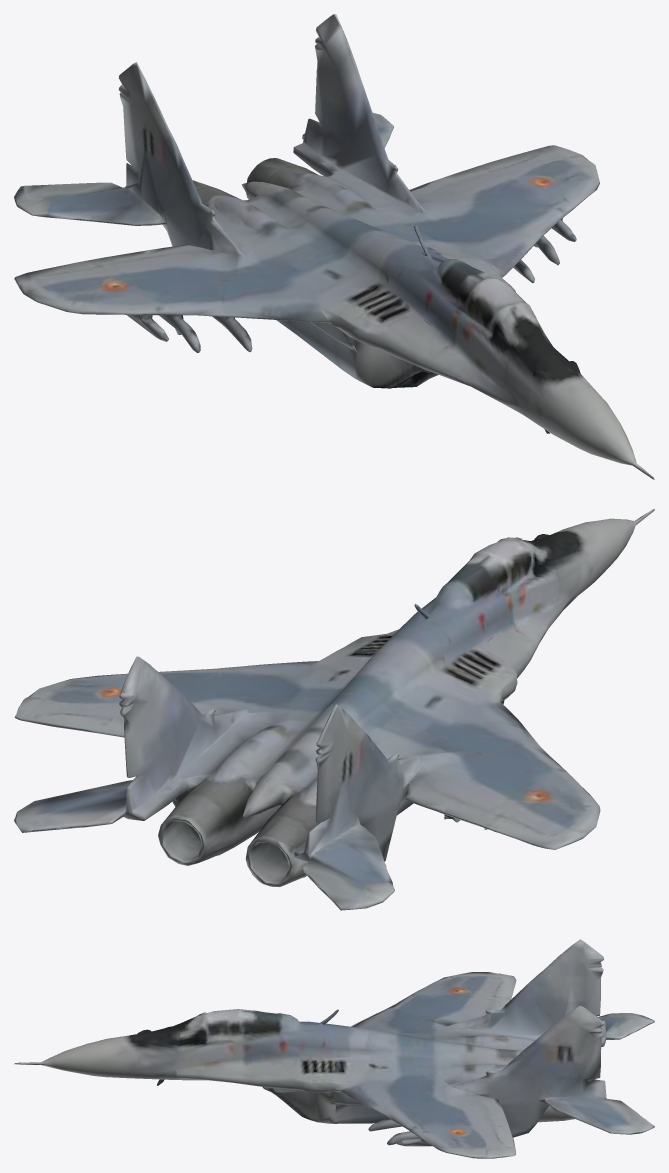
The model's file is mig29_upg.glb.
3 renders of one model, top to bottom at view 1: azimuth 30°, elevation 25°; view 2: azimuth 150°, elevation 25°; view 3: azimuth 270°, elevation 25°, orthographic. The views are drawn at different scales.
Parts seen in each view (by area): view 1: tripo_node_1d0b316f-a177-410b-be34-329fa4072ea8; view 2: tripo_node_1d0b316f-a177-410b-be34-329fa4072ea8; view 3: tripo_node_1d0b316f-a177-410b-be34-329fa4072ea8.
Part boxes in pixels (x1,y1,x2,y2): tripo_node_1d0b316f-a177-410b-be34-329fa4072ea8: (14, 14, 654, 479); tripo_node_1d0b316f-a177-410b-be34-329fa4072ea8: (14, 508, 654, 910); tripo_node_1d0b316f-a177-410b-be34-329fa4072ea8: (14, 939, 654, 1158).
Size of the model in its own units: 0.6825 by 0.2426 by 1.
1 material, 1 textured.
